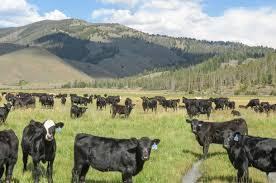cow: (71, 133, 161, 183), (215, 129, 276, 183), (22, 118, 63, 183), (185, 117, 249, 157), (0, 128, 20, 183), (110, 105, 133, 119), (159, 99, 182, 112), (141, 95, 158, 112), (37, 94, 57, 108), (212, 97, 230, 111), (69, 106, 88, 119), (14, 96, 30, 109), (95, 97, 108, 111), (104, 94, 120, 103), (223, 100, 237, 110), (245, 99, 259, 108), (28, 95, 37, 108), (59, 97, 68, 106), (123, 97, 134, 104)
